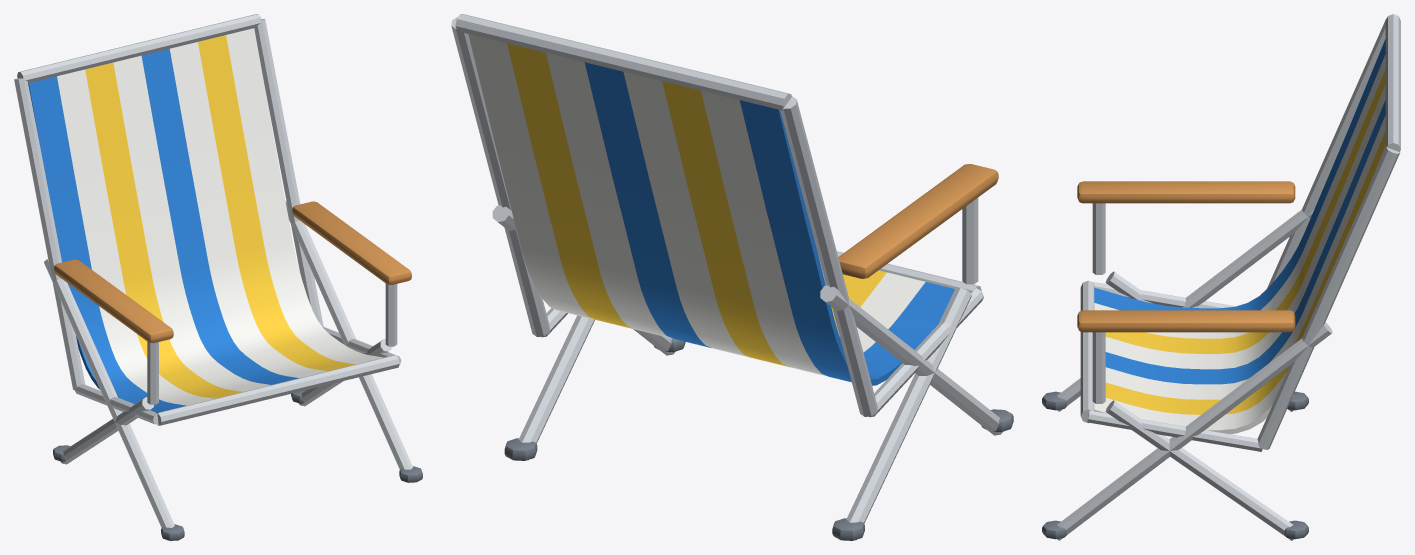
Rendered from cadeira_praia_dobravel.glb.
The picture shows the model from 3 angles, left to right: view 1: azimuth 30°, elevation 25°; view 2: azimuth 150°, elevation 25°; view 3: azimuth 270°, elevation 25°; orthographic projection. The views are drawn at different scales.
Parts seen in each view (by area): view 1: cadeira_praia_dobravel; view 2: cadeira_praia_dobravel; view 3: cadeira_praia_dobravel.
Part boxes in pixels (<box>): cadeira_praia_dobravel: <box>14,14,422,540</box>; cadeira_praia_dobravel: <box>451,14,1013,540</box>; cadeira_praia_dobravel: <box>1042,14,1400,540</box>.
Bounding box in the file's own units: 0.62 × 0.8051 × 0.659.
1 material, 1 textured.
